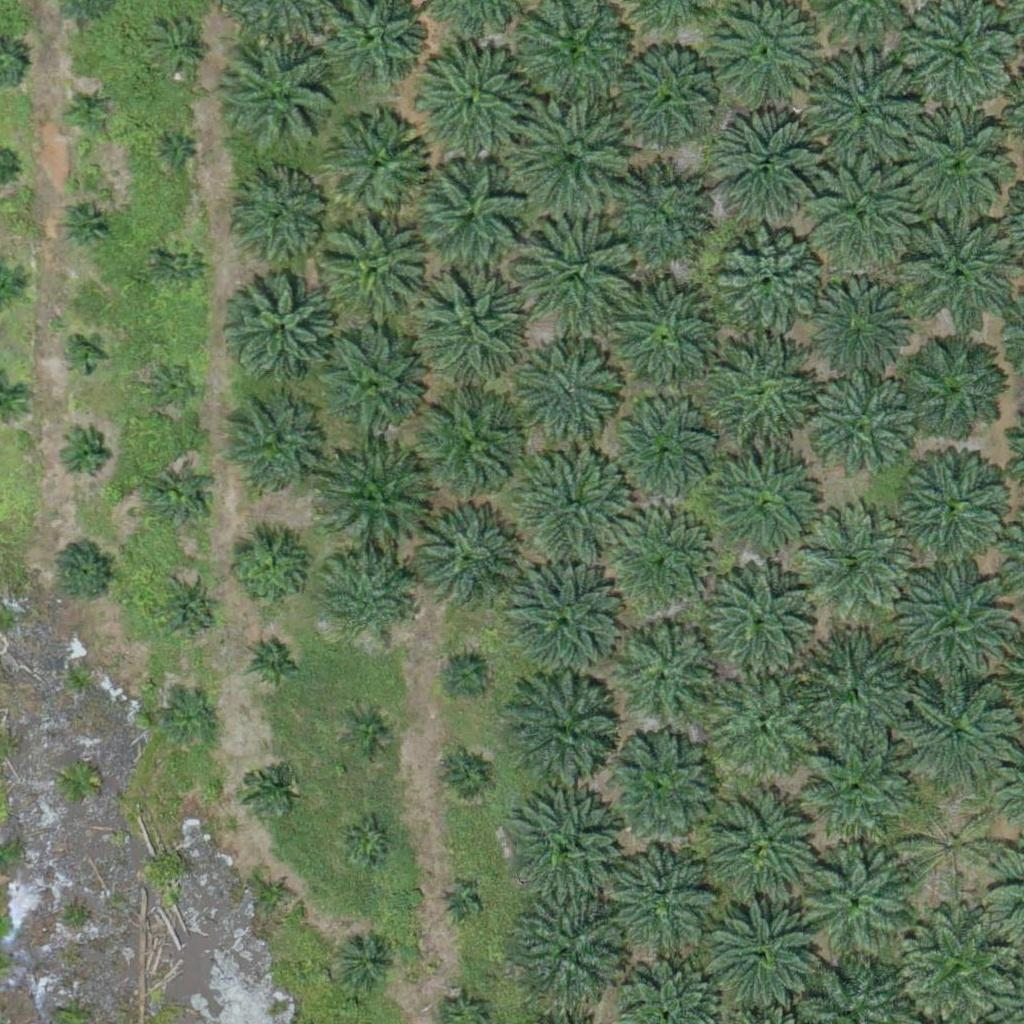Kelapa_Sawit: (509, 94, 634, 220), (697, 335, 822, 461), (707, 445, 832, 571), (406, 262, 531, 388), (513, 210, 638, 336), (692, 553, 817, 679), (521, 447, 634, 561), (806, 57, 919, 170), (805, 165, 918, 278), (899, 108, 1012, 221), (411, 42, 524, 155), (410, 159, 523, 272), (897, 448, 1010, 561), (903, 223, 1016, 336), (799, 268, 912, 381), (407, 503, 520, 616), (511, 792, 624, 905), (512, 894, 625, 1007), (599, 503, 712, 616), (708, 664, 821, 777), (803, 849, 916, 962), (799, 732, 912, 845), (793, 634, 906, 747), (899, 910, 1012, 1023), (706, 113, 818, 227), (413, 391, 525, 505), (321, 447, 433, 561), (317, 331, 429, 445), (320, 214, 432, 328), (799, 503, 911, 617), (899, 563, 1011, 677), (229, 40, 341, 153), (808, 377, 920, 490), (714, 226, 826, 339), (609, 280, 721, 393), (509, 569, 621, 682), (509, 681, 621, 794), (606, 730, 718, 843), (613, 615, 725, 728), (711, 788, 823, 901), (707, 895, 819, 1008), (901, 675, 1013, 788), (902, 797, 1002, 898), (328, 112, 428, 213), (905, 340, 1005, 441), (612, 408, 712, 509), (524, 348, 624, 449), (618, 847, 718, 948), (615, 49, 715, 149), (600, 172, 700, 272), (233, 278, 333, 378), (221, 404, 321, 504), (223, 527, 310, 615), (238, 174, 325, 262), (323, 554, 410, 642), (158, 579, 221, 642), (53, 538, 116, 601), (152, 469, 214, 532), (337, 933, 399, 996), (246, 631, 308, 694), (59, 429, 109, 480), (152, 23, 202, 74), (165, 698, 215, 748), (241, 762, 291, 812), (157, 241, 207, 291), (343, 818, 393, 868), (344, 709, 394, 759), (63, 86, 113, 136), (146, 360, 196, 410), (62, 200, 112, 250), (441, 650, 491, 700), (442, 753, 492, 803), (66, 335, 104, 373), (258, 876, 296, 914), (441, 885, 479, 923), (164, 141, 189, 166)
